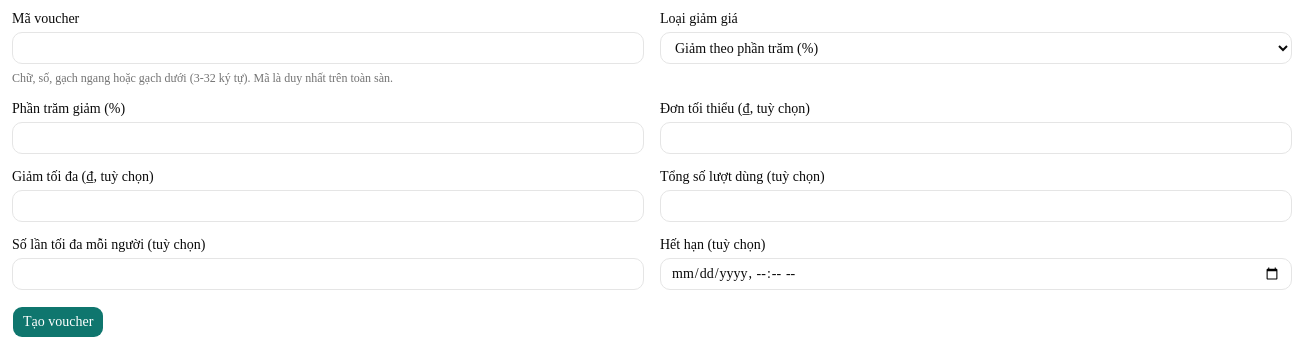
VoucherForm › đổi sang số tiền cố định -> ô "giảm tối đa" biến mất, nhãn giá trị đổi theo
The width and height of the screenshot is (1304, 354).
Select "Giảm số tiền cố định (₫)" in the dropdown labelled "Loại giảm giá" at (976, 48), box [660, 32, 1292, 64]
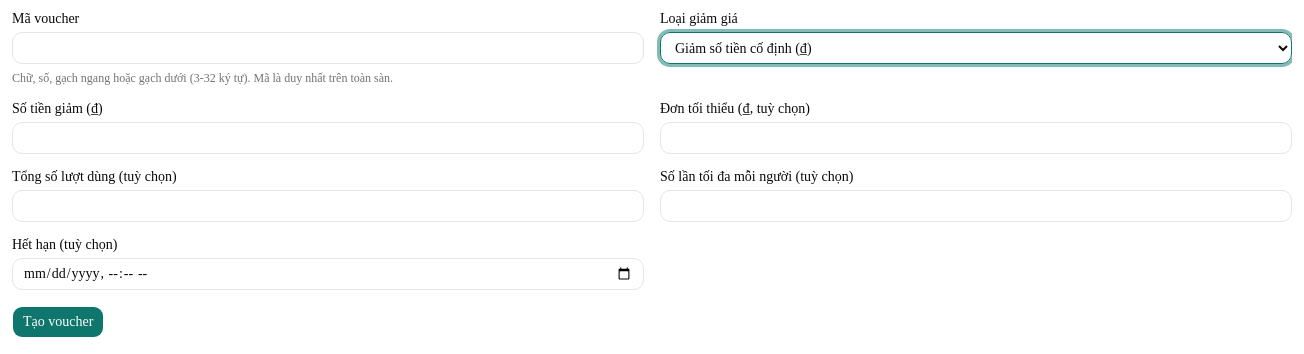
Expected: the number field labelled "Số tiền giảm (₫)" is shown, [12, 122, 644, 154]
Expected: the label labelled "Giảm tối đa (₫, tuỳ chọn)" is gone
